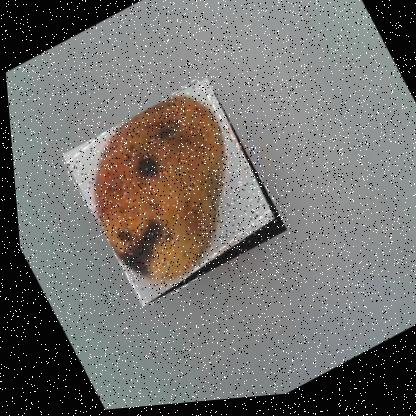mango_rotten: (54, 75, 287, 314)
